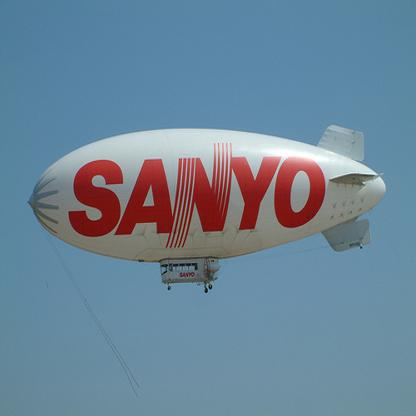Airship: (26, 116, 393, 293)
